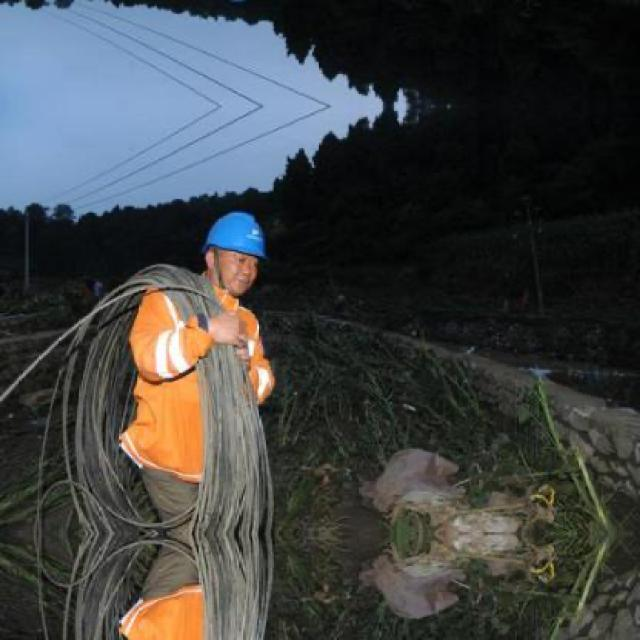con casco: (160, 200, 288, 338)
